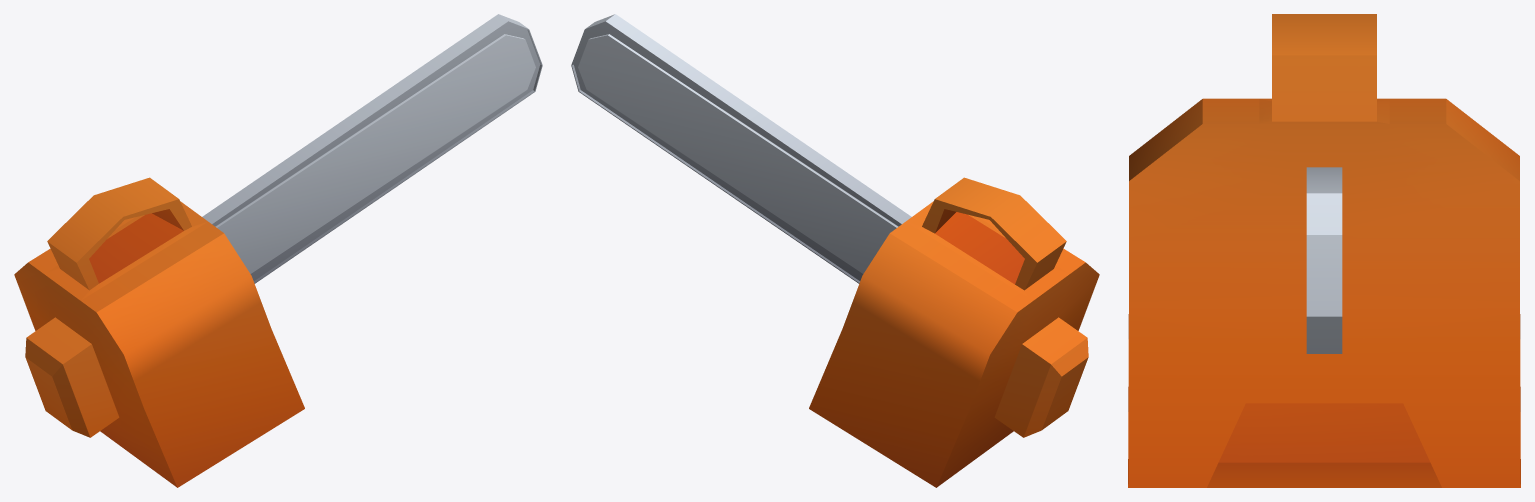
File: Tronconneuse.fbx
3 renders of one model, left to right at view 1: azimuth 30°, elevation 25°; view 2: azimuth 150°, elevation 25°; view 3: azimuth 270°, elevation 25°, orthographic. The views are drawn at different scales.
Parts seen in each view (by area): view 1: Tronconneuse; view 2: Tronconneuse; view 3: Tronconneuse.
Part boxes in pixels (box(x1,y1,x2,y2)): Tronconneuse: box(14, 14, 542, 487); Tronconneuse: box(571, 14, 1099, 487); Tronconneuse: box(1128, 14, 1520, 487).
Bounding box in the file's own units: 654 × 422 × 250.
Materials: 1 (1 with a texture image).
